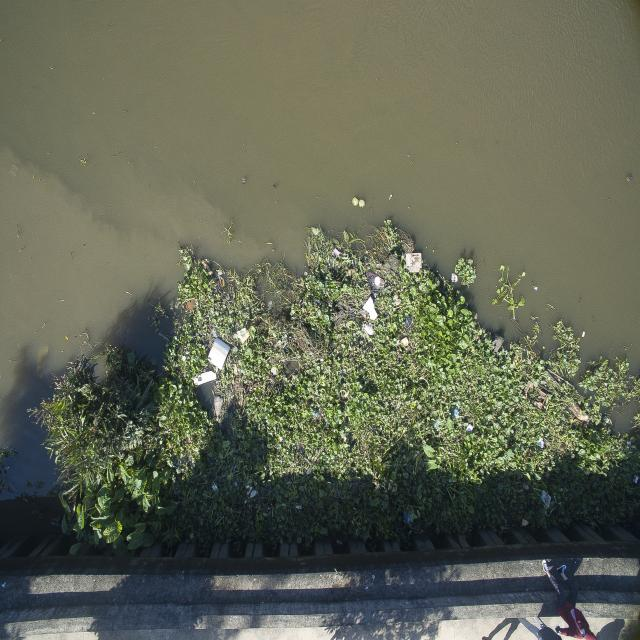plastic: (204, 333, 233, 374), (358, 296, 383, 342), (400, 247, 423, 282), (185, 369, 223, 390), (398, 504, 418, 533), (537, 487, 553, 518), (369, 271, 388, 297), (427, 415, 448, 434), (202, 478, 224, 496), (448, 399, 462, 424), (246, 479, 259, 504), (627, 470, 640, 488), (463, 422, 476, 439), (292, 500, 306, 515), (534, 439, 546, 454), (622, 436, 634, 450), (312, 408, 321, 420)
